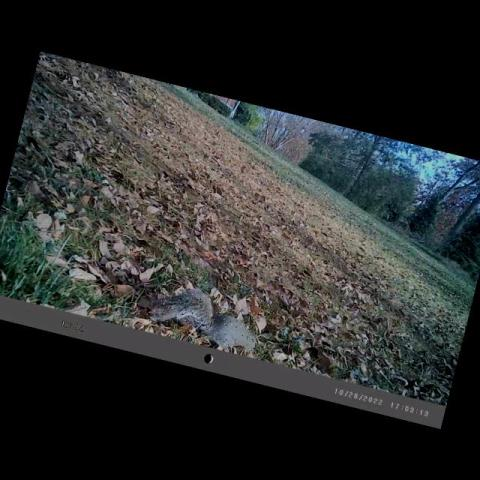small_animal: (152, 288, 263, 354)
